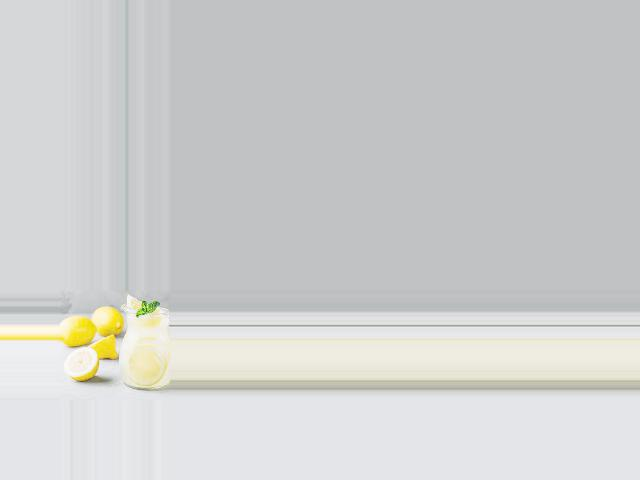lemon: (60, 318, 102, 345)
